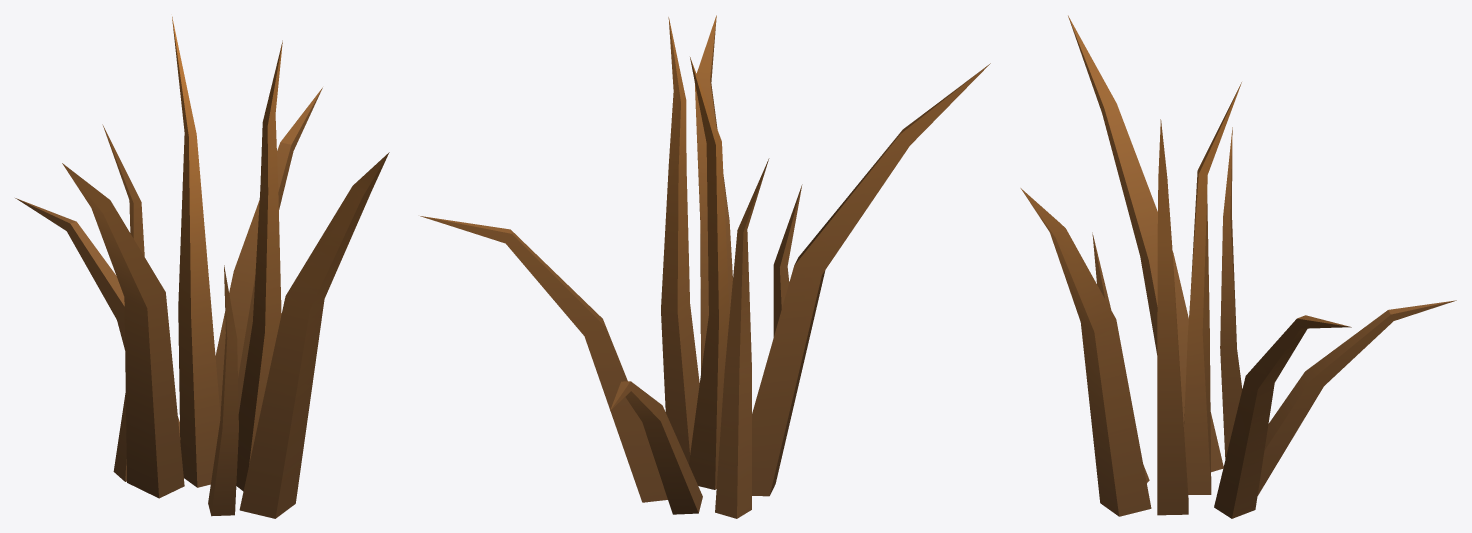
Rendered from Autumn_Grass_03.glb.
3 views of the same model, side by side, from view 1: azimuth 30°, elevation 25°; view 2: azimuth 150°, elevation 25°; view 3: azimuth 270°, elevation 25° (orthographic). The views are drawn at different scales.
Parts seen in each view (by area): view 1: Autumn_Grass_03_LOD0; view 2: Autumn_Grass_03_LOD0; view 3: Autumn_Grass_03_LOD0.
Boxes of the visible parts, left/top/right/bottom form: Autumn_Grass_03_LOD0: left=15, top=16, right=389, bottom=518; Autumn_Grass_03_LOD0: left=420, top=15, right=990, bottom=518; Autumn_Grass_03_LOD0: left=1020, top=15, right=1456, bottom=518.
Size of what is drawn, in the model's own units: 0.4174 by 0.4367 by 0.4167.
1 material, 1 textured.
